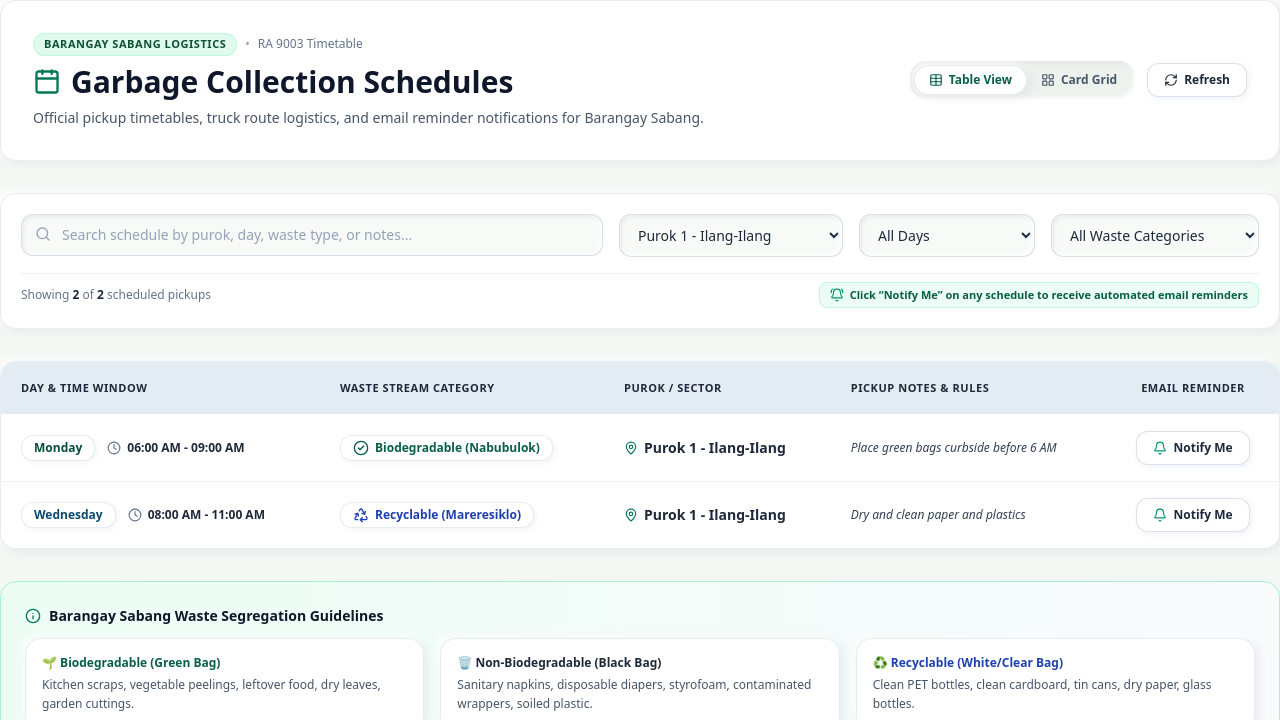
Scenario: ResidentSchedulesPage Component Table View & Email Notifications › opens reminder modal and registers email notification on submit
// Click Notify Me on first schedule
Click the button "Notify Me" in the row of "Monday" at {"x": 1193, "y": 448}, box [1136,430,1250,464]
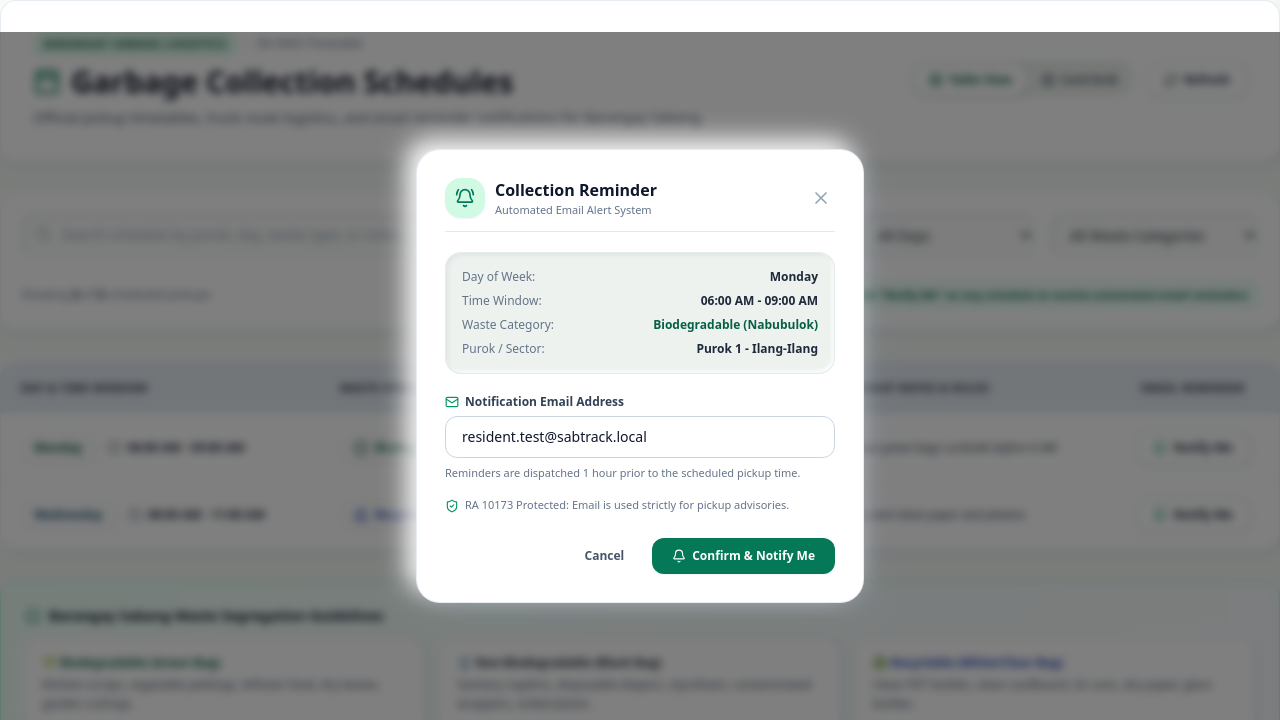
Expected: the heading "Collection Reminder" is shown, [495,178,657,202]
Expected: the field labelled "Notification Email Address" is shown, [445,416,835,458]
// Submit the form
Click the button "Confirm & Notify Me" at {"x": 744, "y": 556}, box [652,538,835,574]
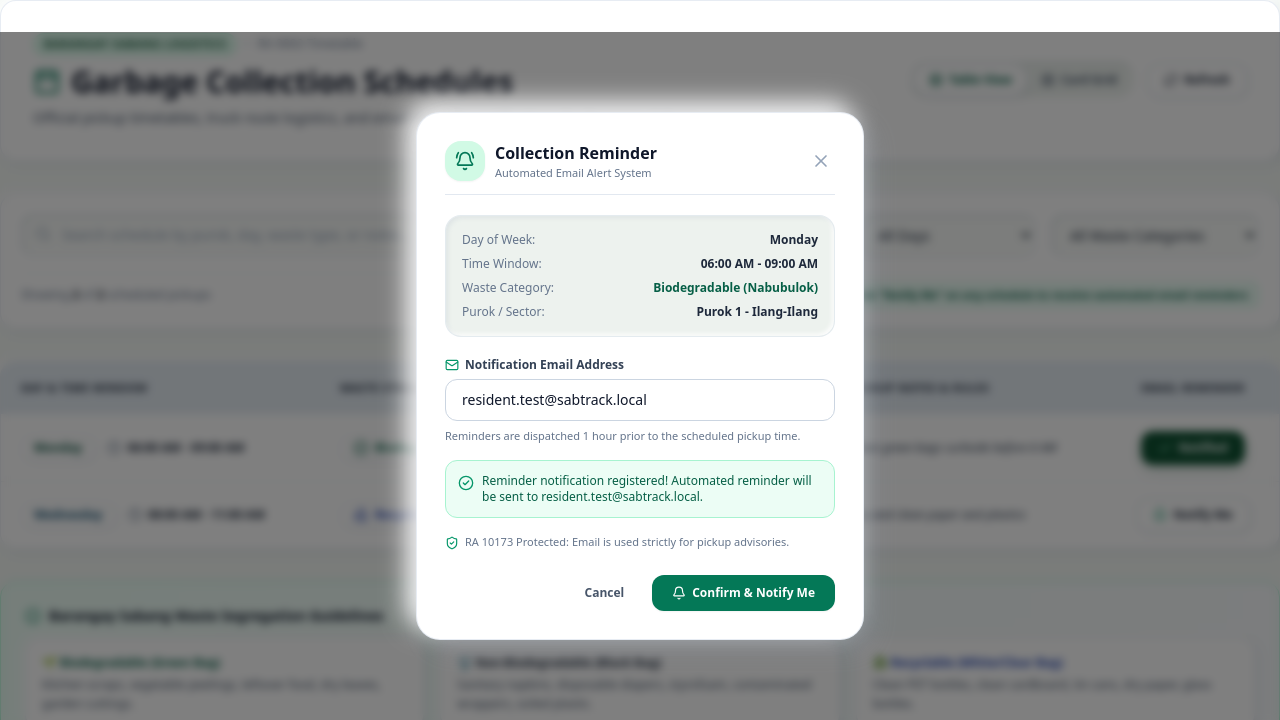
Expected: the text "Reminder notification registered!" is shown, [482,472,812,505]
